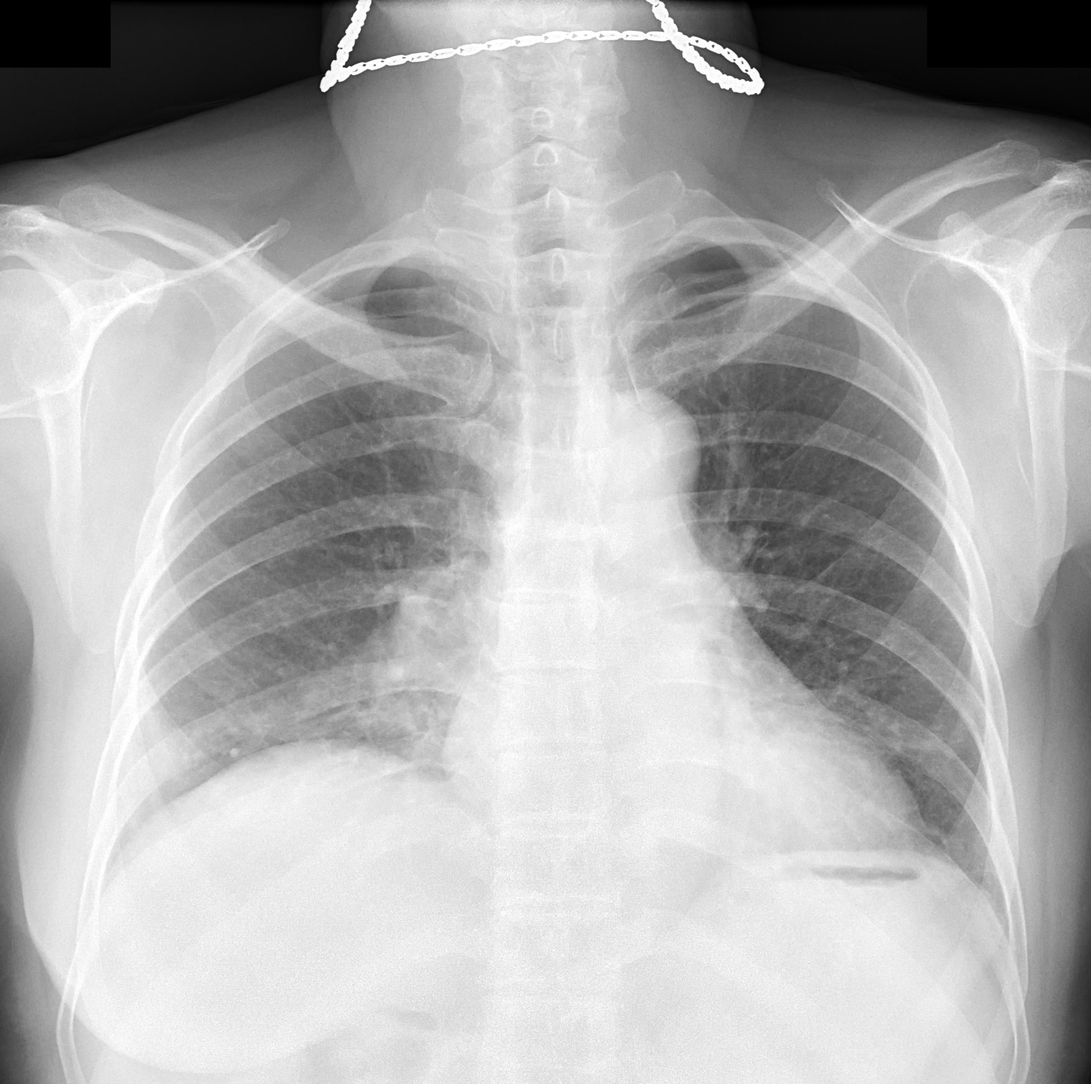Aortic enlargement: (584, 390, 706, 529)
